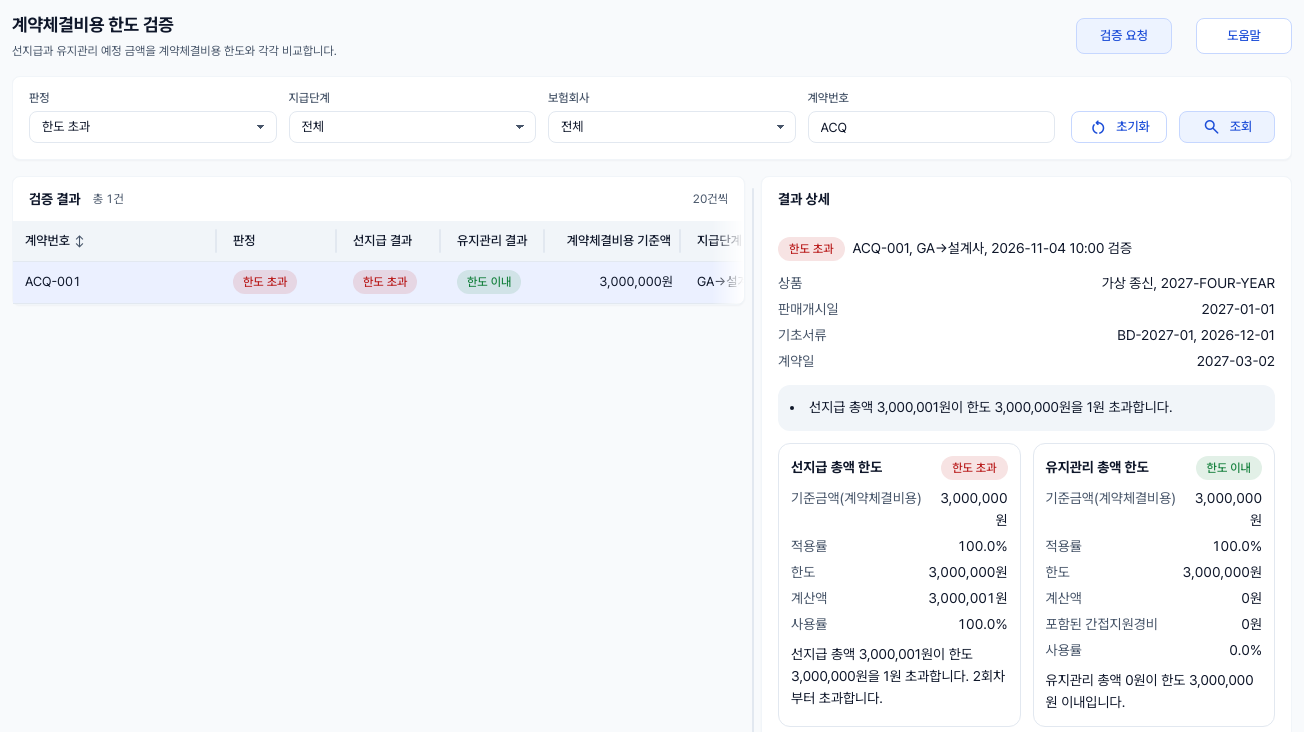
Test: ACQC-W01 조회 상태 › 필터는 1쪽으로 돌아가고 초기화는 기본값으로 다시 조회한다
Check: the search field labelled "계약번호" holds "ACQ", box [808,111,1055,143]
Step 1. Select "GA→설계사" in the dropdown labelled "지급단계" → (412, 127), box [288,111,536,143]
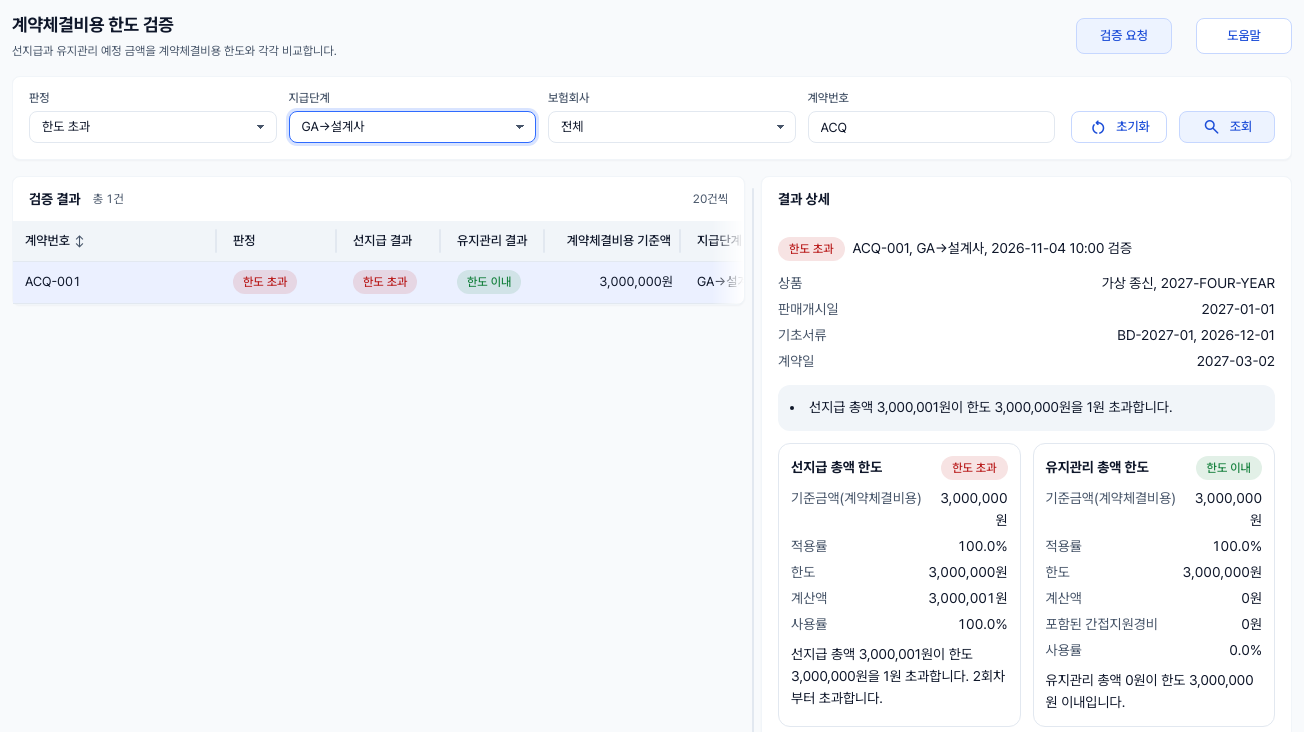
Step 2. Click the button "초기화" → click(1119, 127), box [1071,111,1167,143]
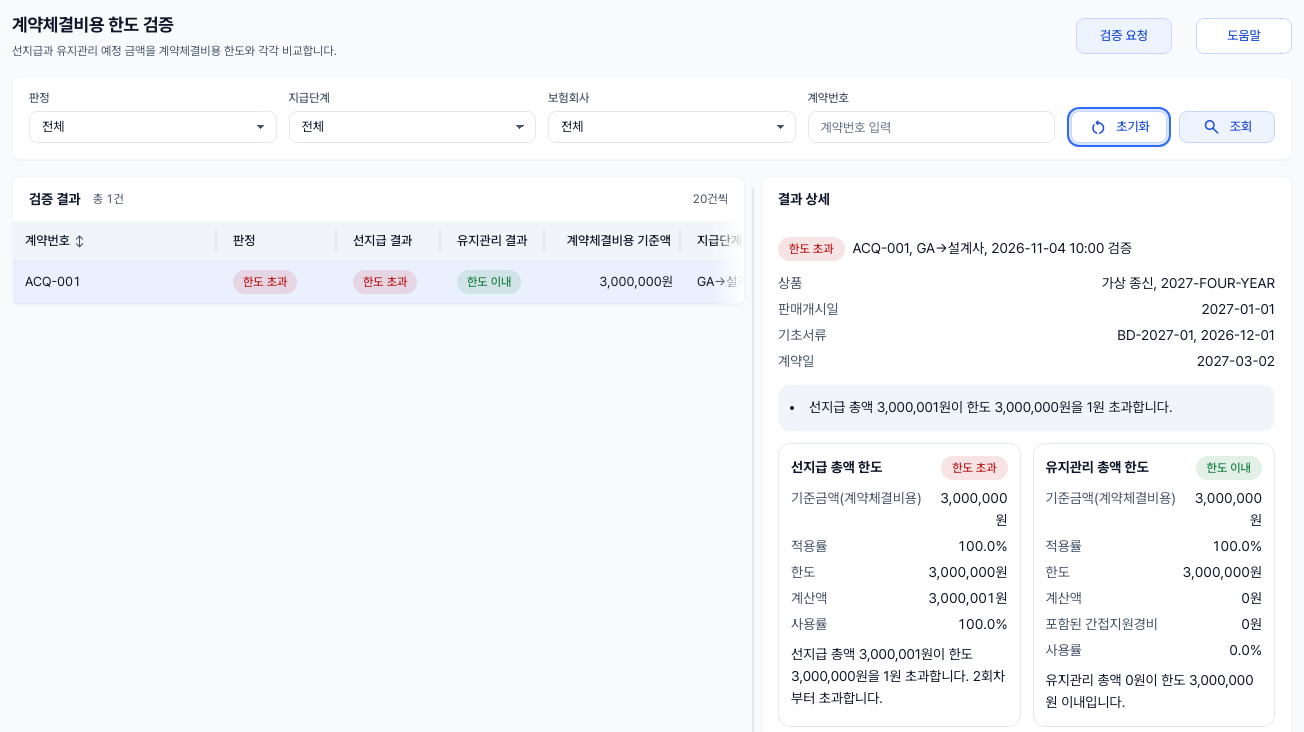
Check: the search field labelled "계약번호" is empty, box [808,111,1055,143]
Check: the dropdown labelled "판정" shows "전체", box [29,111,276,143]
